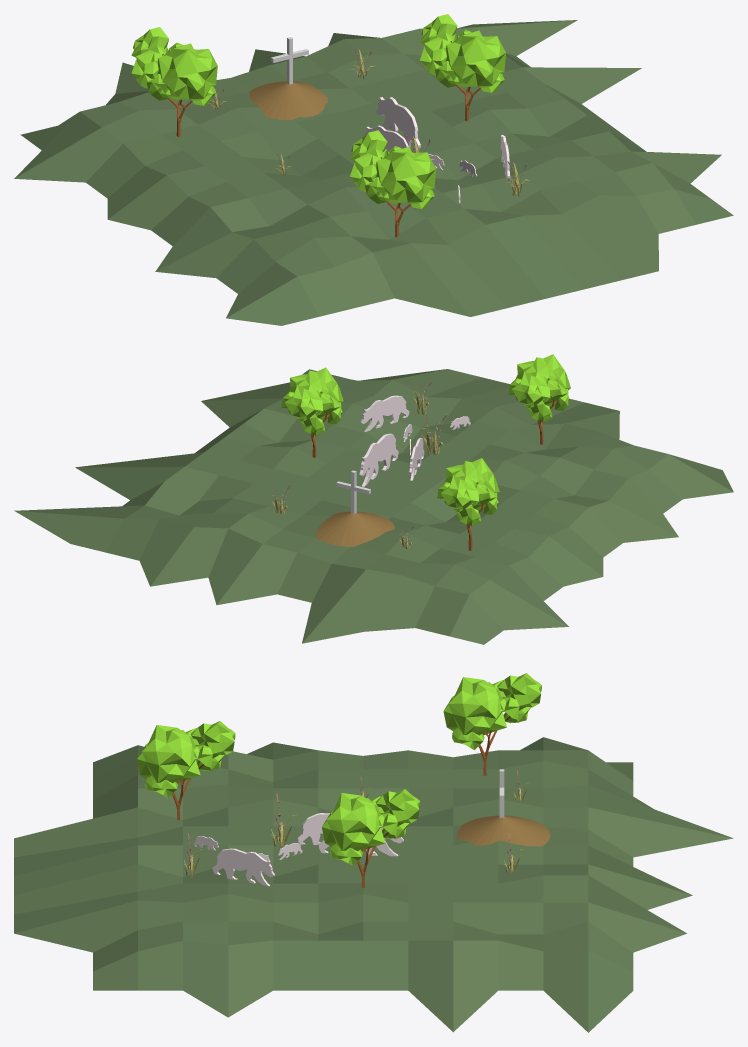
Rendered from land1.glb.
The picture shows the model from 3 angles, top to bottom: view 1: azimuth 30°, elevation 25°; view 2: azimuth 150°, elevation 25°; view 3: azimuth 270°, elevation 25°; orthographic projection. The views are drawn at different scales.
Parts seen in each view (by area): view 1: Plane.002, Crown.001, Crown, Crown.002, Cone, Bear_2; view 2: Plane.002, Crown.002, Crown, Crown.001, Cone, Bear_2, Bear_2.002; view 3: Plane.002, Crown.002, Crown, Crown.001, Cone, Bear_2.002, Bear_2.001.
Part boxes in pixels (left/top/right/bottom): Plane.002: left=14, top=20, right=733, bottom=325; Crown.001: left=131, top=27, right=217, bottom=105; Crown: left=420, top=14, right=505, bottom=92; Crown.002: left=350, top=130, right=436, bottom=208; Cone: left=249, top=81, right=327, bottom=119; Bear_2: left=376, top=97, right=420, bottom=150; Plane.002: left=14, top=369, right=733, bottom=644; Crown.002: left=508, top=354, right=570, bottom=421; Crown: left=281, top=367, right=343, bottom=435; Crown.001: left=437, top=458, right=499, bottom=525; Cone: left=316, top=511, right=394, bottom=546; Bear_2: left=359, top=433, right=398, bottom=486; Bear_2.002: left=360, top=395, right=409, bottom=431; Plane.002: left=14, top=737, right=733, bottom=1032; Crown.002: left=137, top=721, right=235, bottom=797; Crown: left=322, top=789, right=420, bottom=865; Crown.001: left=443, top=673, right=541, bottom=750; Cone: left=456, top=815, right=550, bottom=846; Bear_2.002: left=212, top=848, right=274, bottom=886; Bear_2.001: left=297, top=813, right=329, bottom=844.
Bounding box in the file's own units: 77.75 × 15.92 × 79.97.
